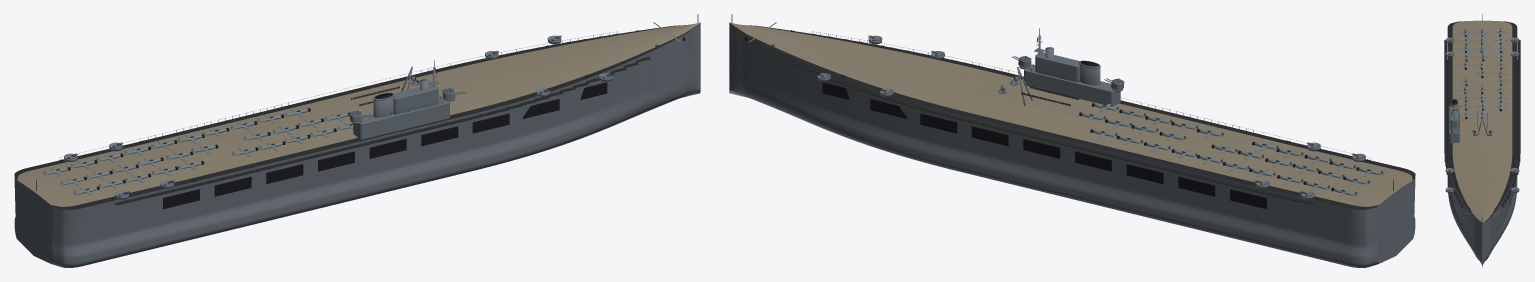
File: essex.glb
3 views of the same model, side by side, from view 1: azimuth 30°, elevation 25°; view 2: azimuth 150°, elevation 25°; view 3: azimuth 270°, elevation 25° (orthographic). The views are drawn at different scales.
Parts seen in each view (by area): view 1: essex; view 2: essex; view 3: essex.
Boxes of the visible parts, x1,y1,x2,y2 form: essex: [14, 14, 700, 267]; essex: [729, 14, 1415, 267]; essex: [1444, 14, 1520, 267].
Bounding box in the file's own units: 266 × 45.5 × 41.4.
